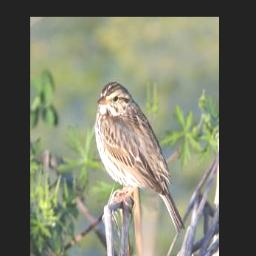Sparrow: (94, 80, 185, 234)
